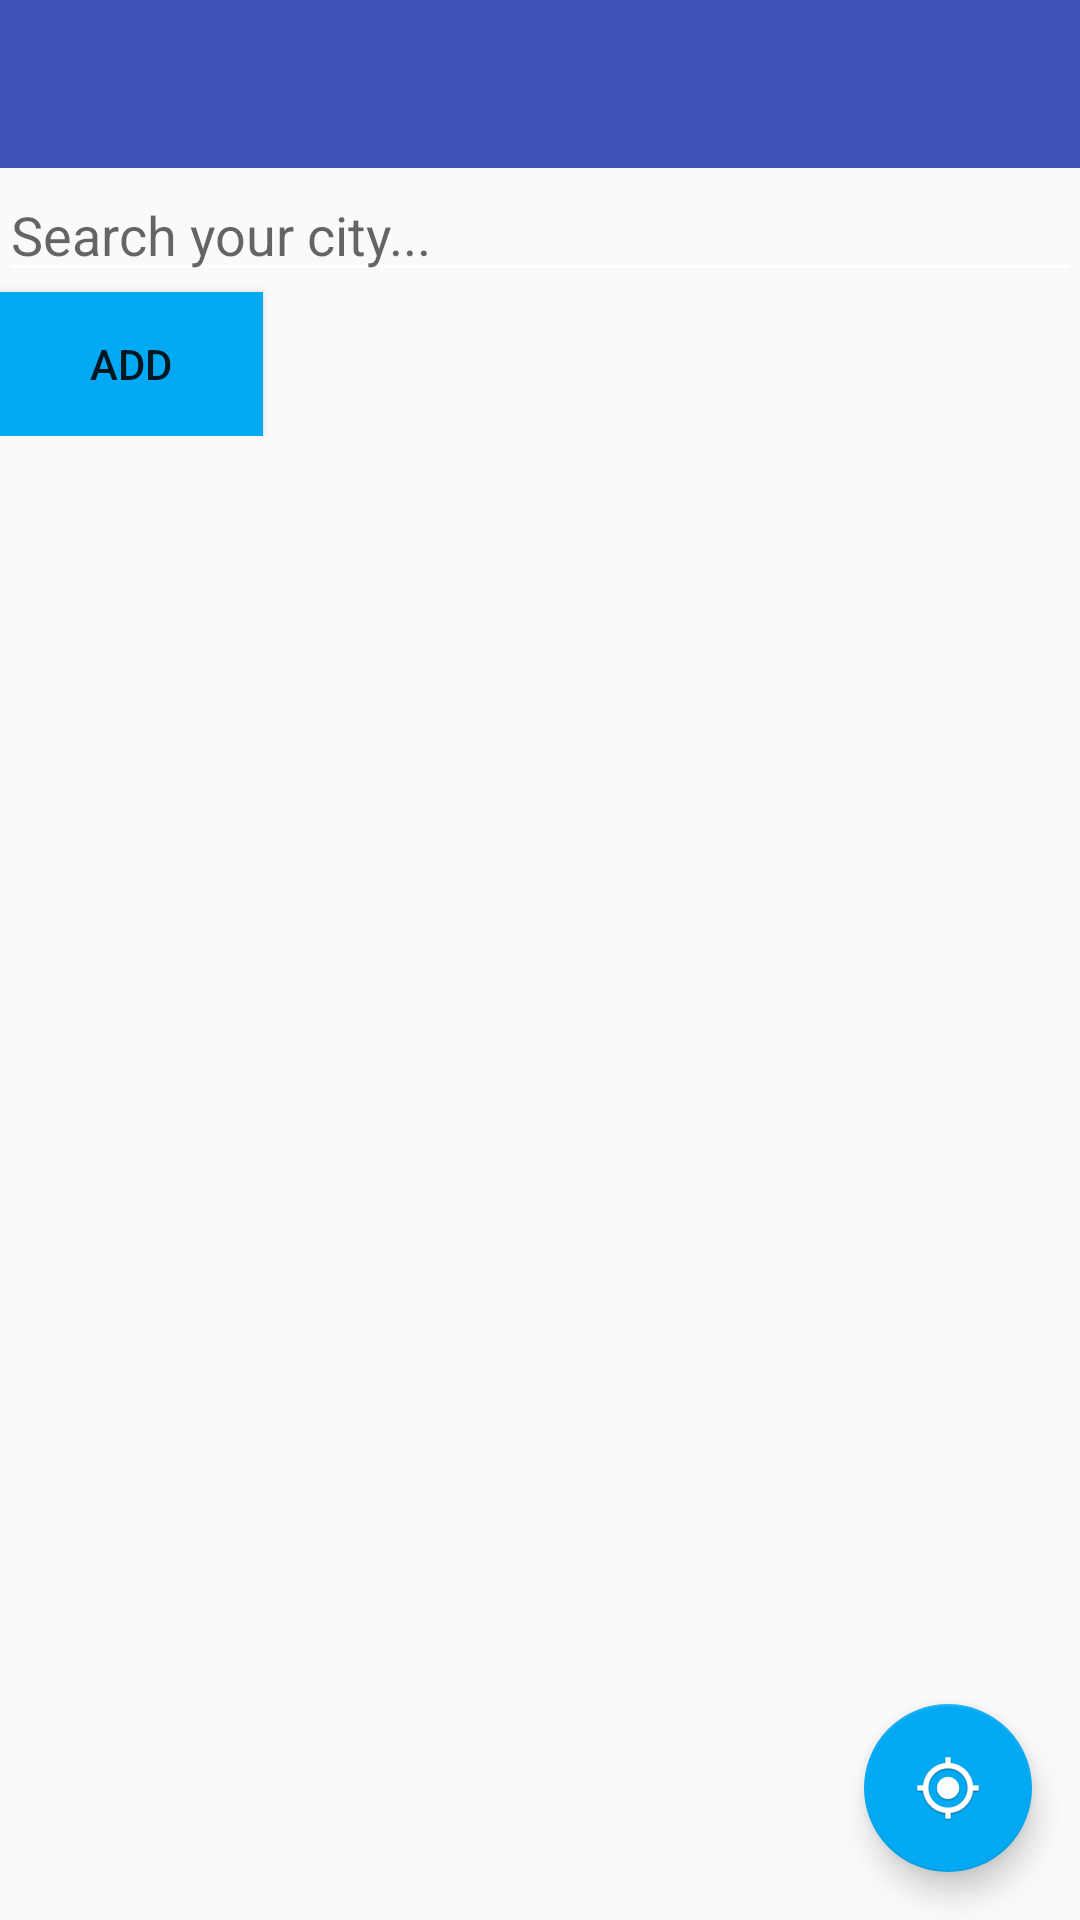

Point at icon controls on the screen. Image size 1080w x 1920h, points as (x=x, y=y).
location: (x=948, y=1788)
